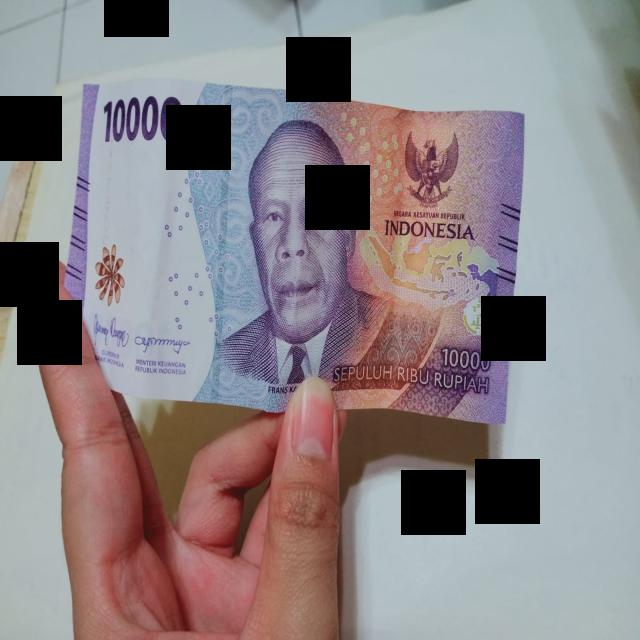sepuluhribu rupiah: (66, 78, 524, 422)
